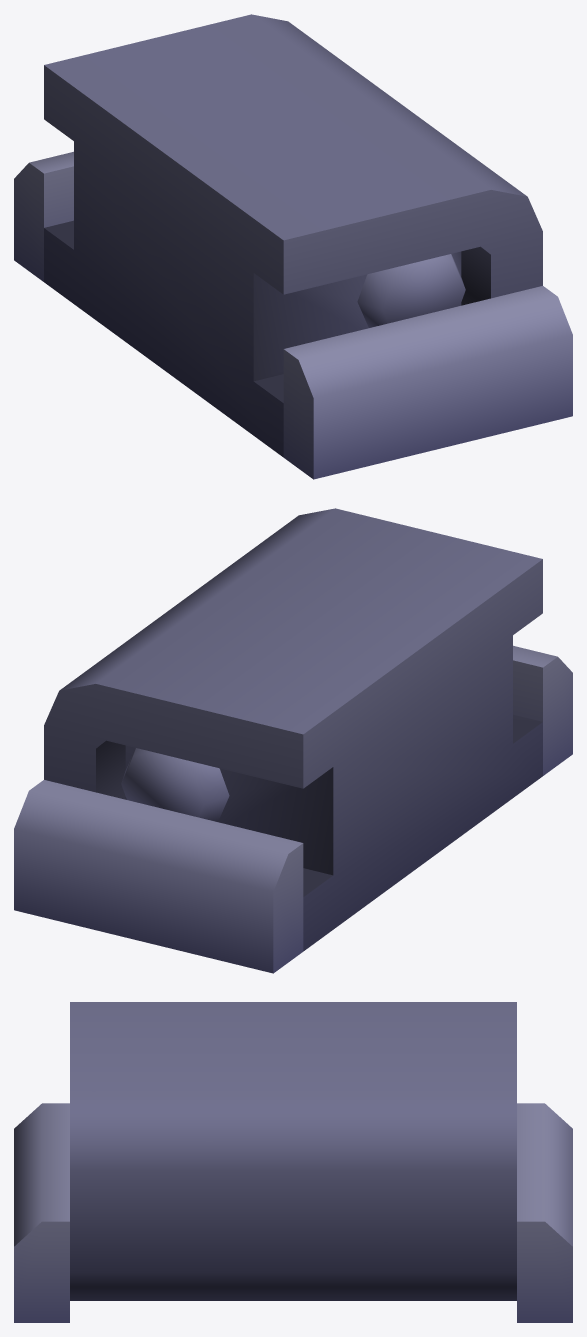
The model's file is conveyor-long-sides-part-end.glb.
3 views of the same model, one above another, from view 1: azimuth 30°, elevation 25°; view 2: azimuth 150°, elevation 25°; view 3: azimuth 270°, elevation 25° (orthographic). The views are drawn at different scales.
Parts seen in each view (by area): view 1: conveyor-long-sides-part-end; view 2: conveyor-long-sides-part-end; view 3: conveyor-long-sides-part-end.
Boxes of the visible parts, x1,y1,x2,y2 form: conveyor-long-sides-part-end: (14, 14, 572, 479); conveyor-long-sides-part-end: (14, 508, 572, 973); conveyor-long-sides-part-end: (14, 1002, 572, 1322).
Size of the model in its own units: 0.5 by 0.4 by 1.
